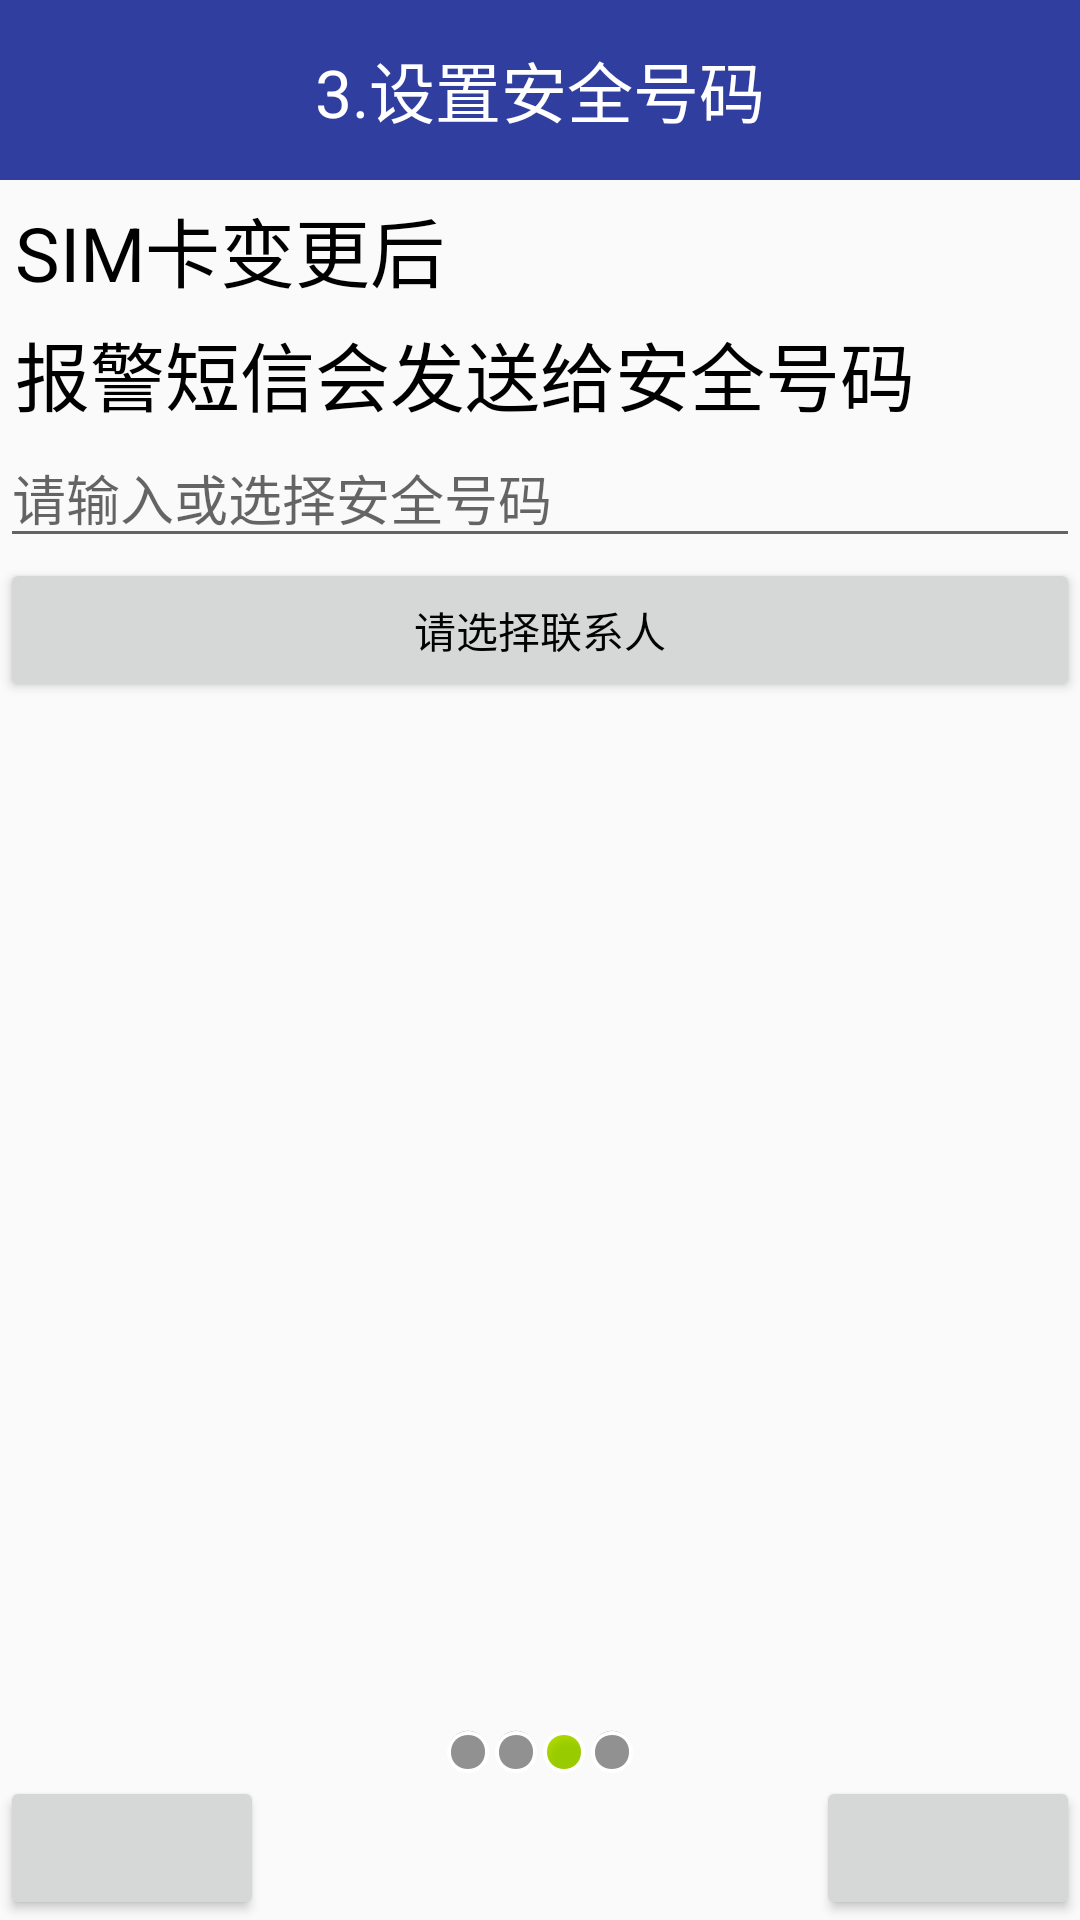

Icon click points for this 1080 × 1920 phone screenshot, format (x=x, y=y):
presence invisible: (x=468, y=1750), (x=516, y=1750), (x=612, y=1750)
presence online: (x=564, y=1752)
